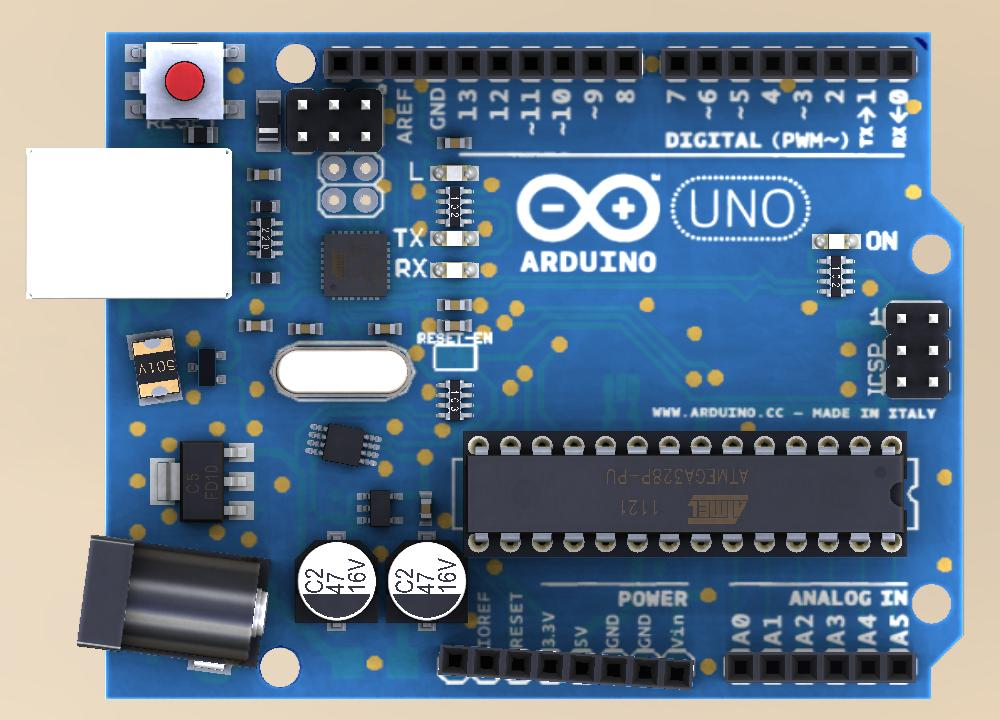47uF CAP: (294, 537, 381, 632), (387, 539, 468, 632)
ATMEL328P: (464, 430, 907, 557)
ATMega16u2: (319, 228, 392, 302)
CD1206: (254, 86, 283, 154)
Capa: (416, 490, 434, 529), (433, 298, 474, 315), (435, 317, 473, 335), (369, 320, 404, 339), (287, 319, 323, 337), (436, 133, 473, 150), (246, 167, 282, 183), (238, 319, 273, 334)
Crystal: (272, 339, 416, 405)
Fuse: (122, 330, 184, 411)
LED: (429, 162, 481, 184), (428, 229, 483, 249), (430, 258, 479, 280), (812, 232, 861, 251)
LMV358: (355, 490, 403, 528)
PIN Header: (884, 300, 953, 400), (287, 87, 384, 153)
Ports: (322, 44, 645, 84), (437, 644, 695, 693), (663, 44, 918, 85), (723, 646, 919, 689)
Power: (78, 532, 271, 672)
Regulator: (129, 432, 263, 534)
Reset: (125, 42, 244, 122)
Resistor: (182, 124, 220, 147), (250, 198, 282, 215), (251, 272, 281, 286)
Resistor pack: (436, 377, 477, 424), (815, 256, 857, 300), (436, 183, 475, 229), (243, 218, 285, 260)
SSOT3: (187, 348, 232, 389)
USB: (25, 146, 233, 302)
lp2985: (304, 421, 384, 468)
